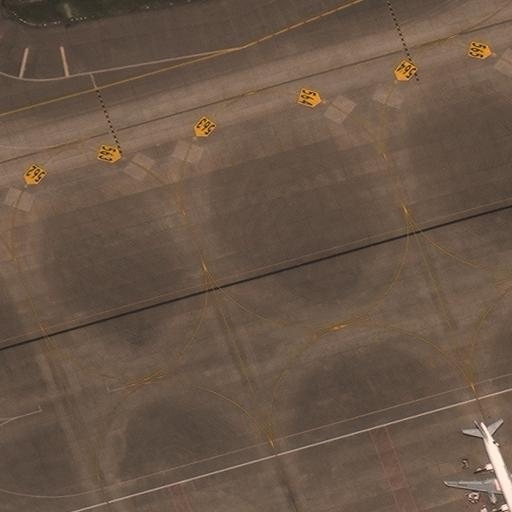Medium Civil Transport: (444, 420, 512, 511)
